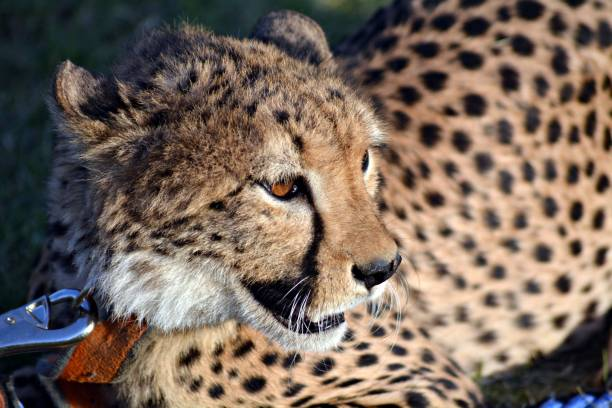cheetah: (15, 12, 432, 360)
